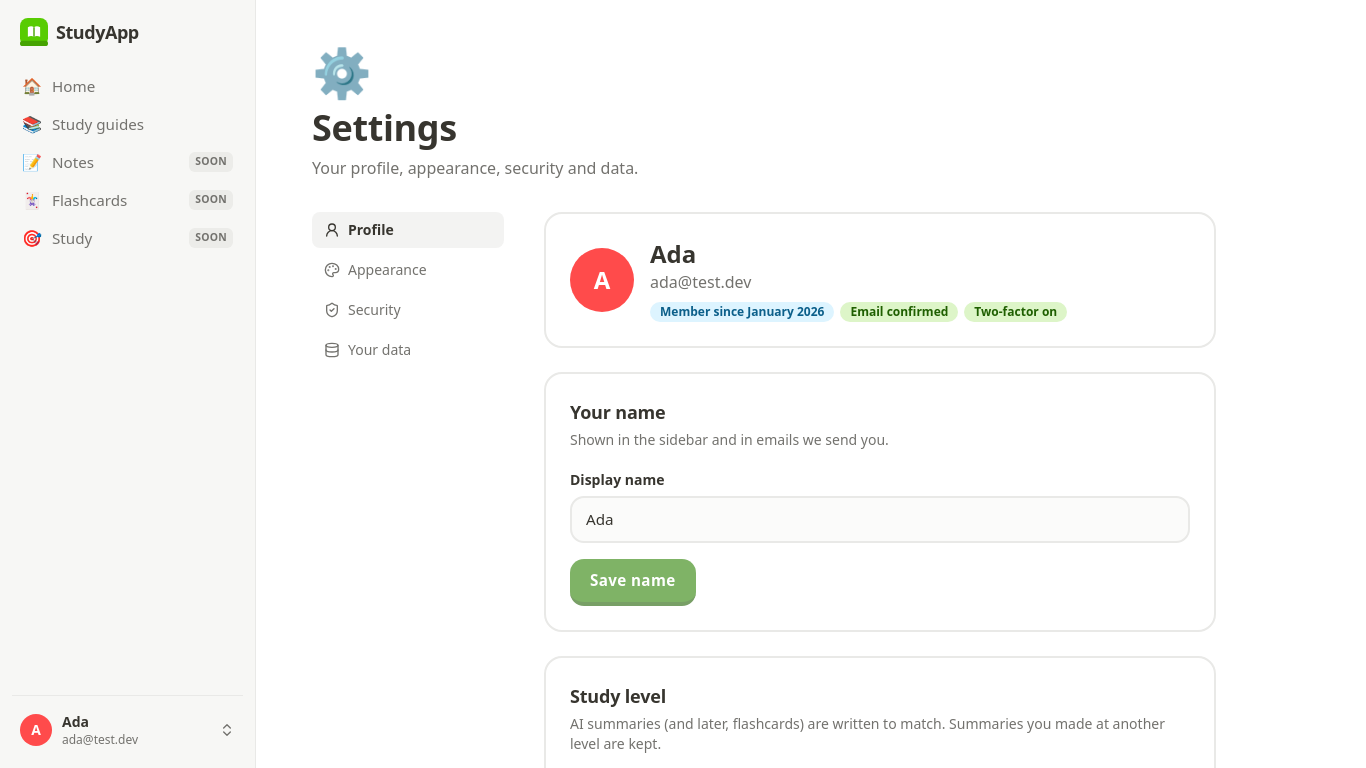
Test: profile and appearance › saves a new display name
The width and height of the screenshot is (1366, 768).
Replace the text in the field labelled "Display name" with "Ada Lovelace": (880, 519) [570, 496, 1190, 543]
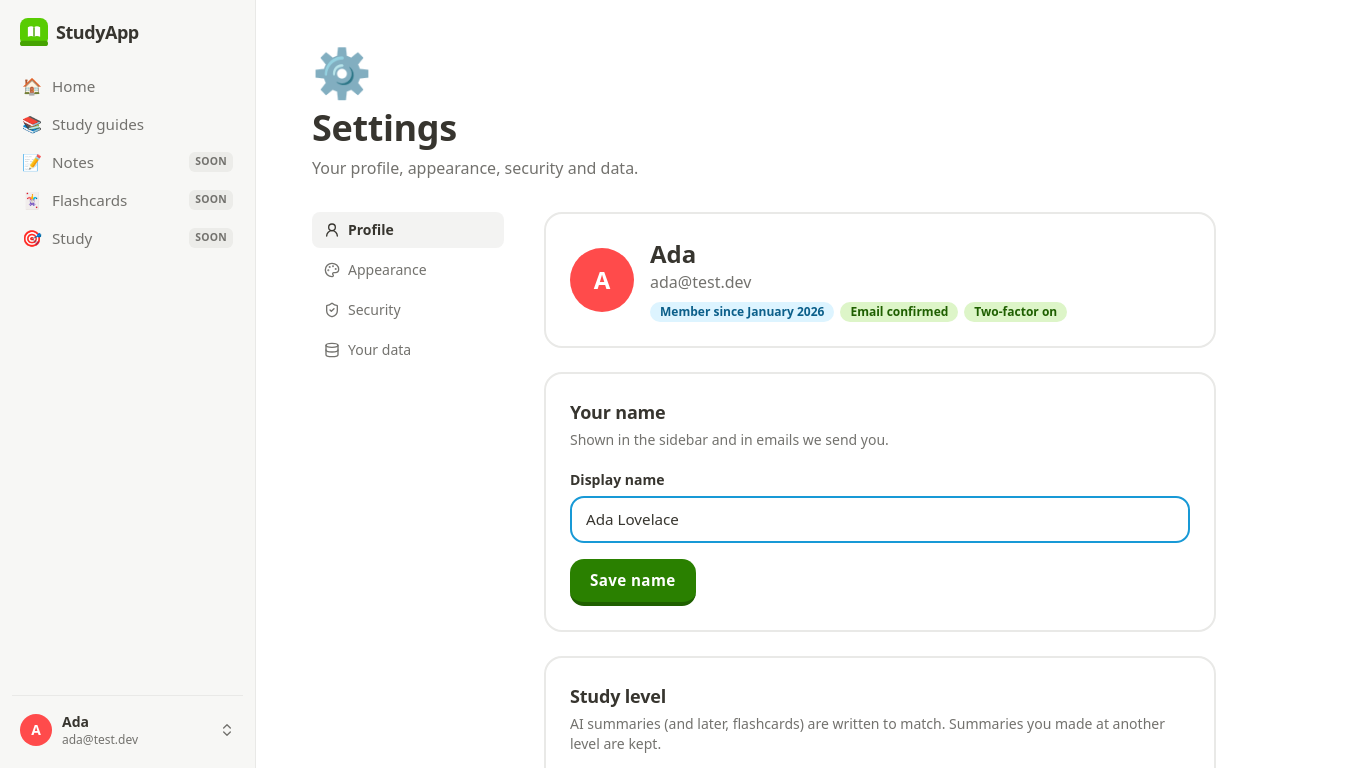
Click the button "Save name": (633, 582) [570, 559, 696, 606]
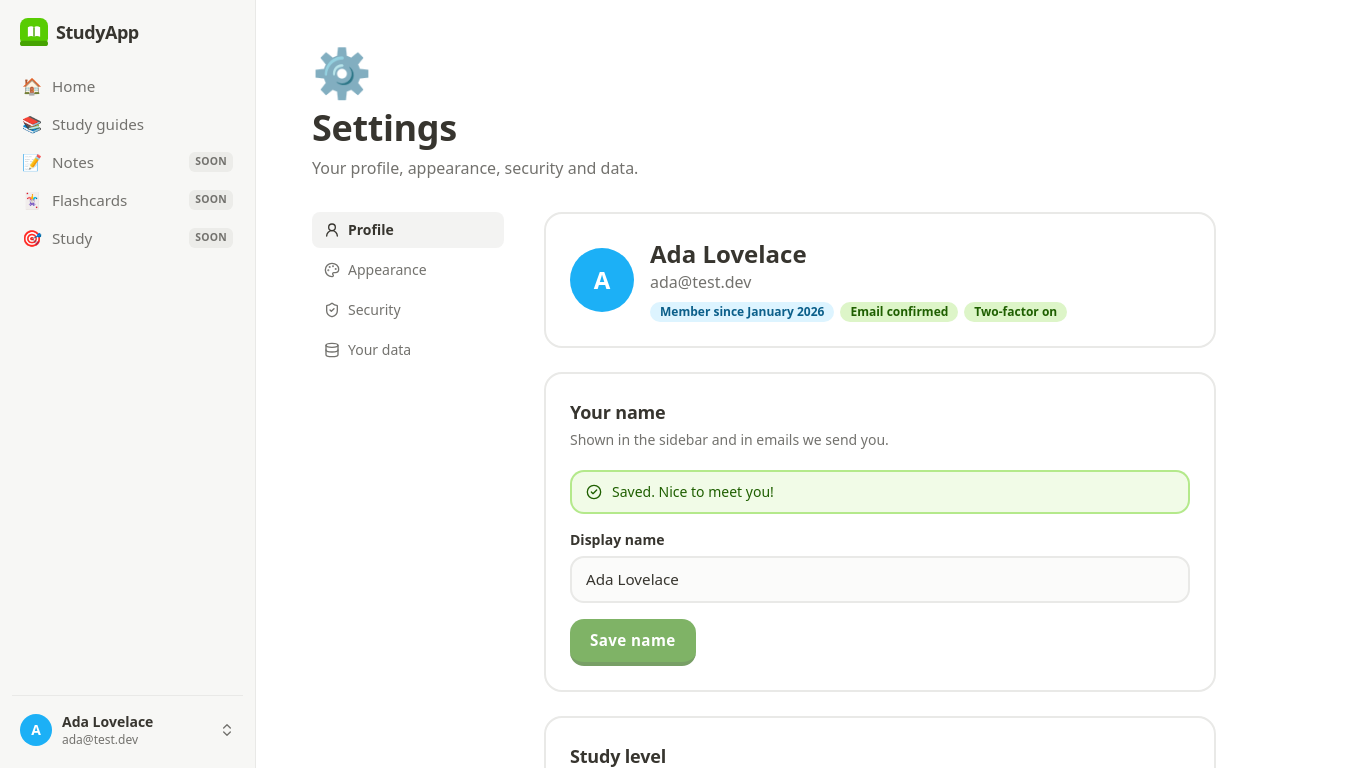
Expected: the text "Saved. Nice to meet you!" is shown, [612, 482, 774, 502]
